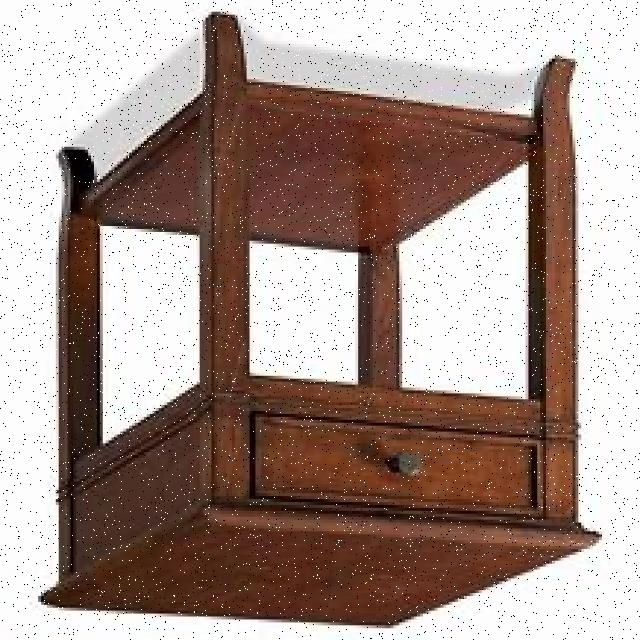mobile-phone: (32, 2, 604, 635)
